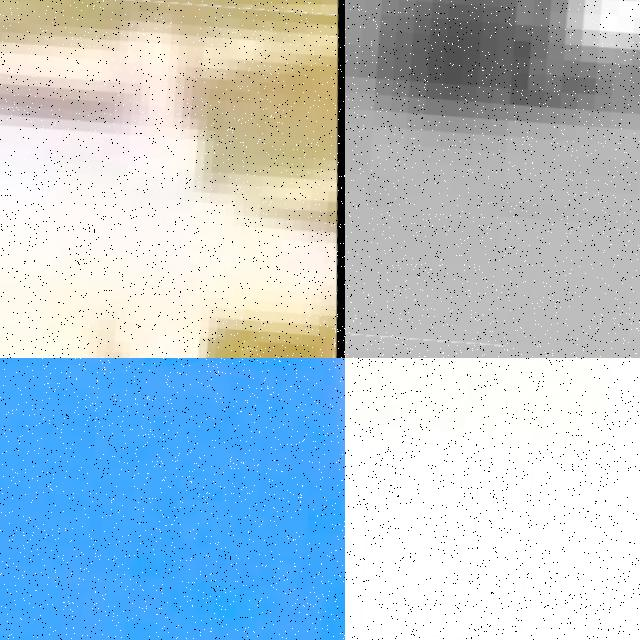drone: (0, 0, 345, 358), (345, 0, 640, 357), (0, 358, 345, 640), (345, 358, 640, 640)
